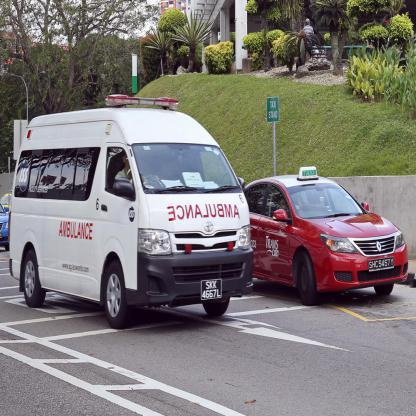Ambulance - v1 Ambulance last generate: (0, 103, 252, 319)
